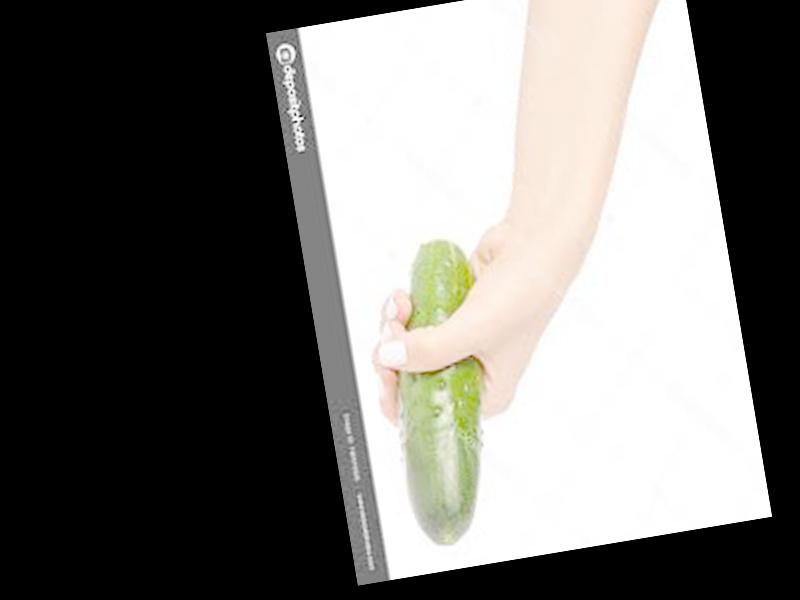Cucumber: (368, 236, 517, 551)
